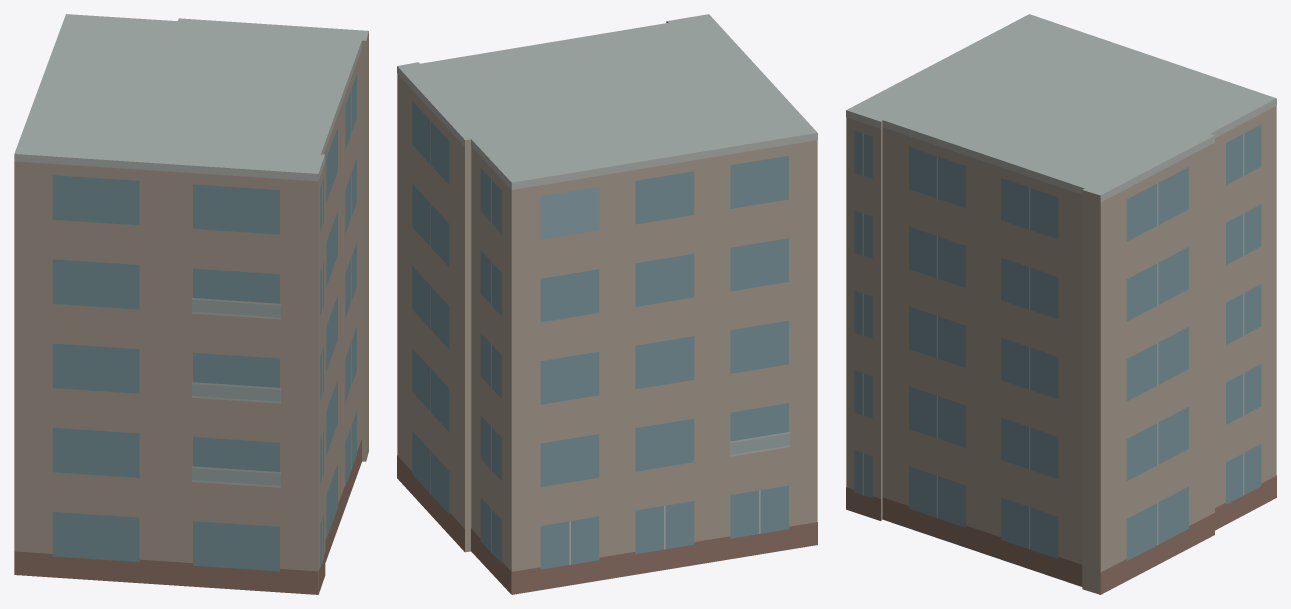
File: survey-upis-33047338.glb
3 renders of one model, left to right at view 1: azimuth 30°, elevation 25°; view 2: azimuth 150°, elevation 25°; view 3: azimuth 270°, elevation 25°, orthographic. The views are drawn at different scales.
Parts seen in each view (by area): view 1: survey-upis-33047338.tmp; view 2: survey-upis-33047338.tmp; view 3: survey-upis-33047338.tmp.
Part boxes in pixels (<box>): survey-upis-33047338.tmp: <box>14,14,368,594</box>; survey-upis-33047338.tmp: <box>397,14,817,594</box>; survey-upis-33047338.tmp: <box>846,14,1276,594</box>.
Size of the model in its own units: 13.46 by 13.8 by 13.49.
